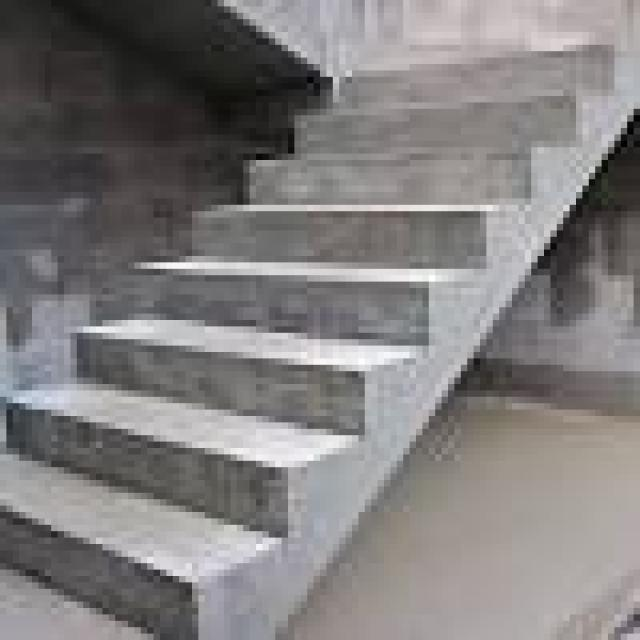stairs: (0, 32, 634, 634)
